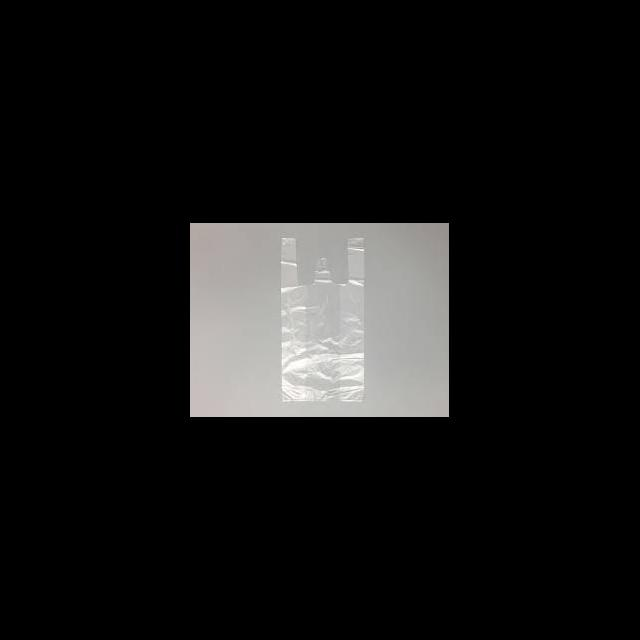plastic: (278, 235, 364, 402)
